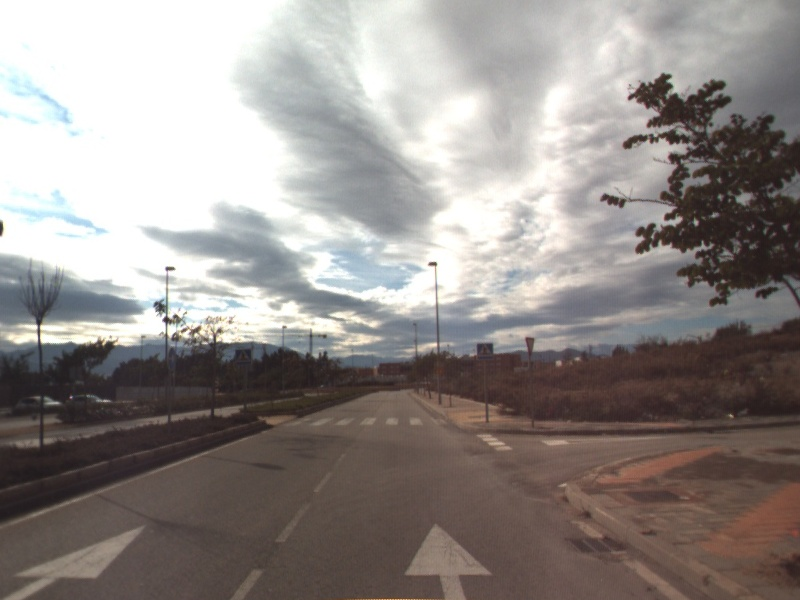STRAIGHT: (1, 523, 148, 600), (401, 520, 496, 600)
